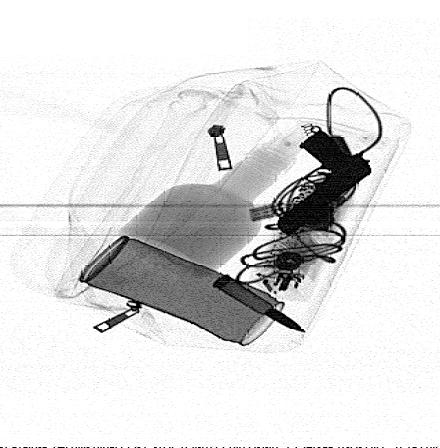Bullet: (213, 274, 307, 333)
Gun: (278, 129, 375, 238)
